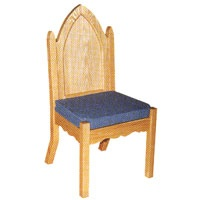obstacle: (45, 5, 156, 197)
